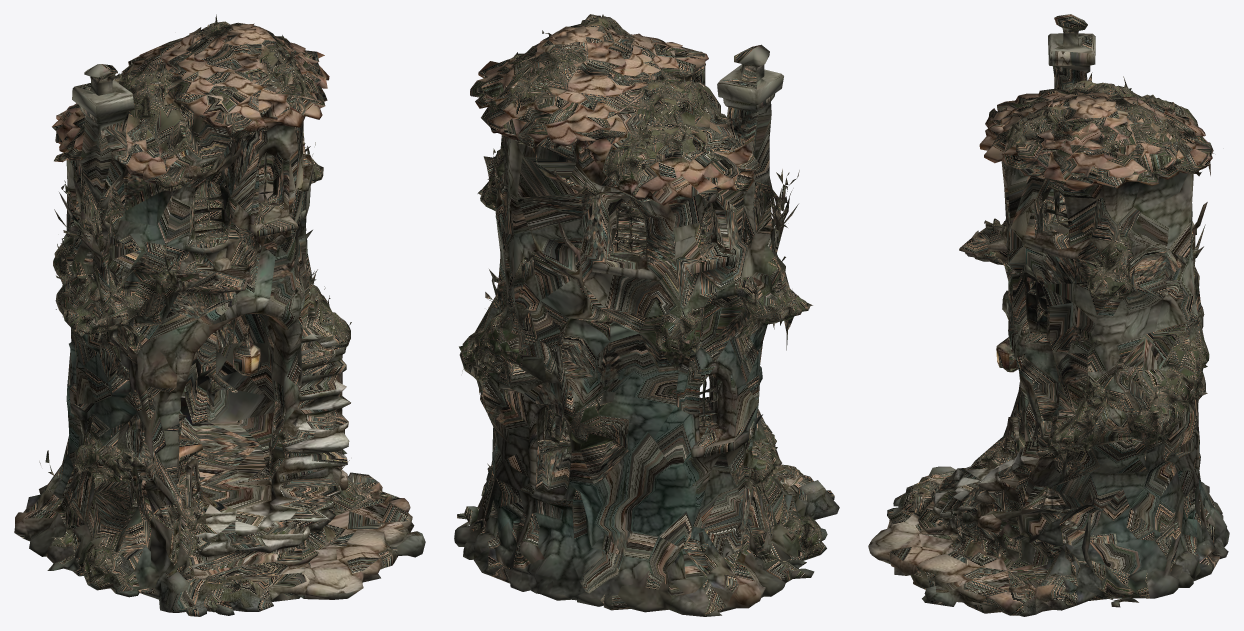
The model's file is Winding_Stone_Tower.glb.
The picture shows the model from 3 angles, left to right: view 1: azimuth 30°, elevation 25°; view 2: azimuth 150°, elevation 25°; view 3: azimuth 270°, elevation 25°; orthographic projection. The views are drawn at different scales.
Visible parts, largest first — view 1: Winding_Stone_Tower; view 2: Winding_Stone_Tower; view 3: Winding_Stone_Tower.
Boxes of the visible parts, bbox=[...] form: Winding_Stone_Tower: bbox=[14, 14, 425, 616]; Winding_Stone_Tower: bbox=[454, 14, 839, 616]; Winding_Stone_Tower: bbox=[868, 14, 1229, 616].
Size of the model in its own units: 1.33 by 1.9 by 1.31.
Materials: 1 (1 with a texture image).
